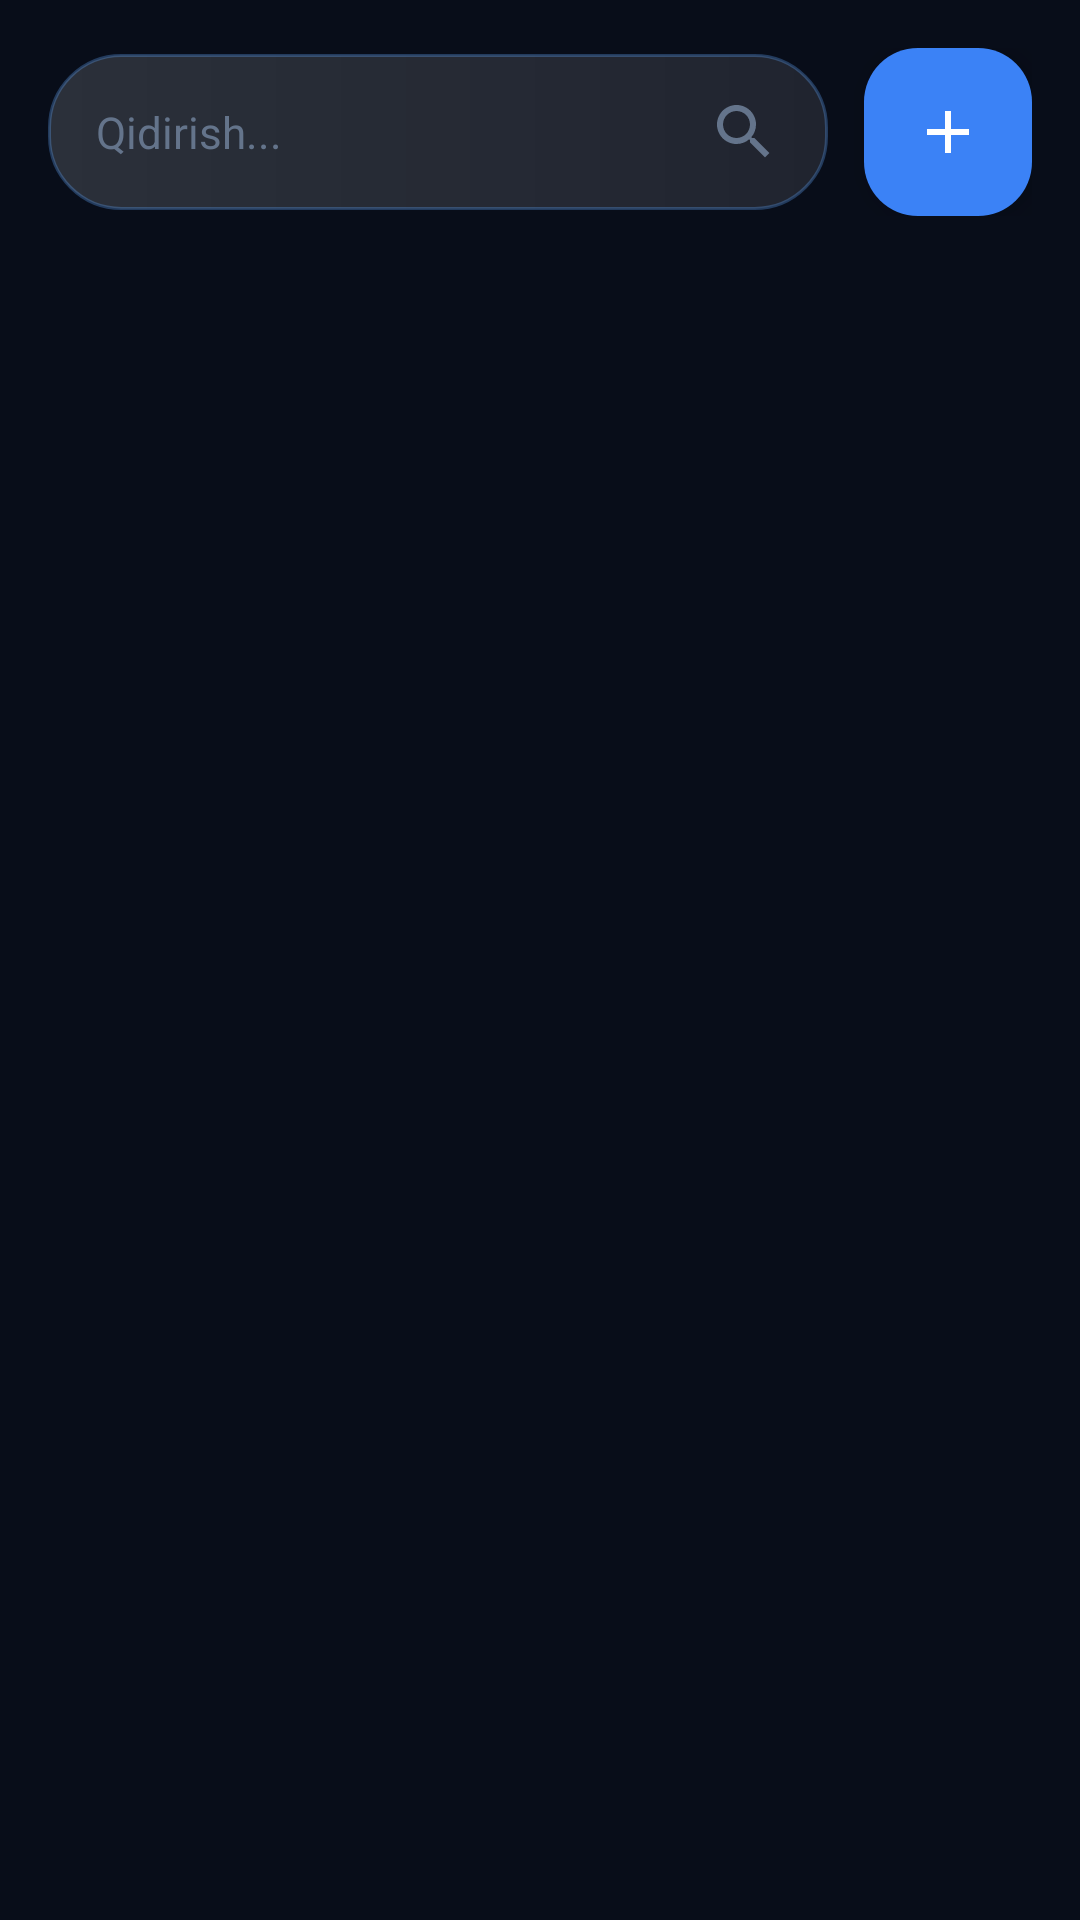

Locate icon controls on the screen. Image size 1080 x 1920, boxes as (x1, y1, x2, y2).
Qo'shish: (864, 48, 1032, 216)
